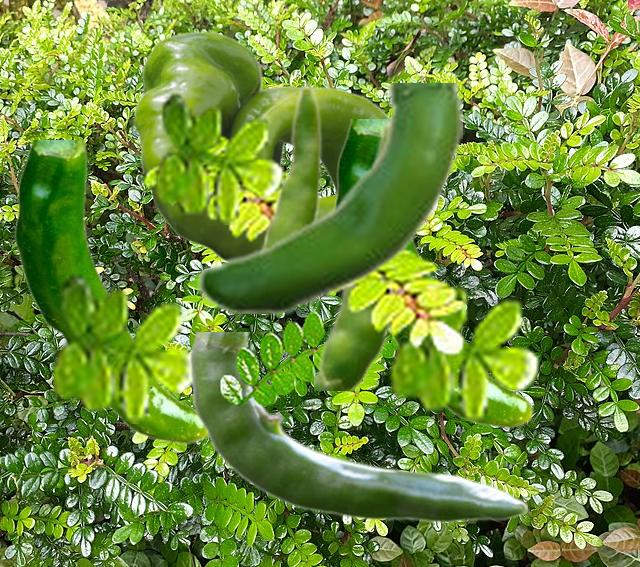green_chili: (189, 332, 526, 522), (195, 83, 461, 317), (333, 119, 533, 428), (14, 140, 207, 444), (133, 31, 387, 259), (314, 119, 389, 389), (259, 82, 322, 248)
